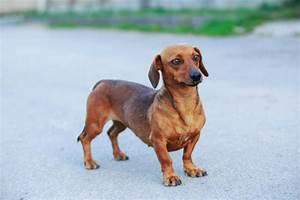dog: (76, 42, 209, 186)
